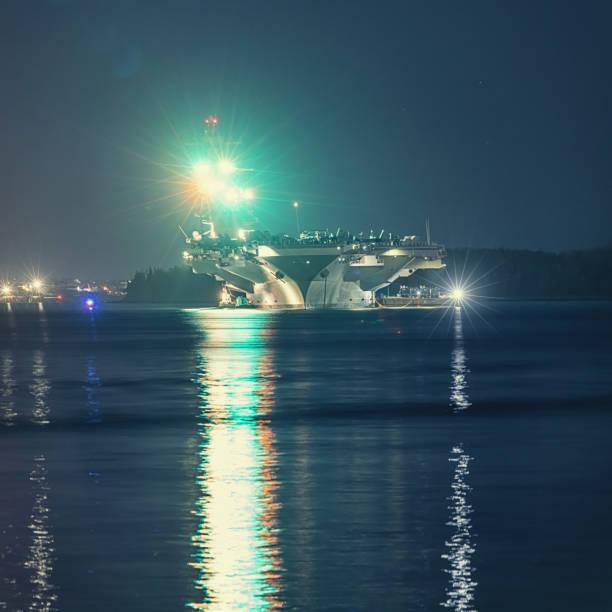MIL_Ship: (175, 110, 448, 317)
